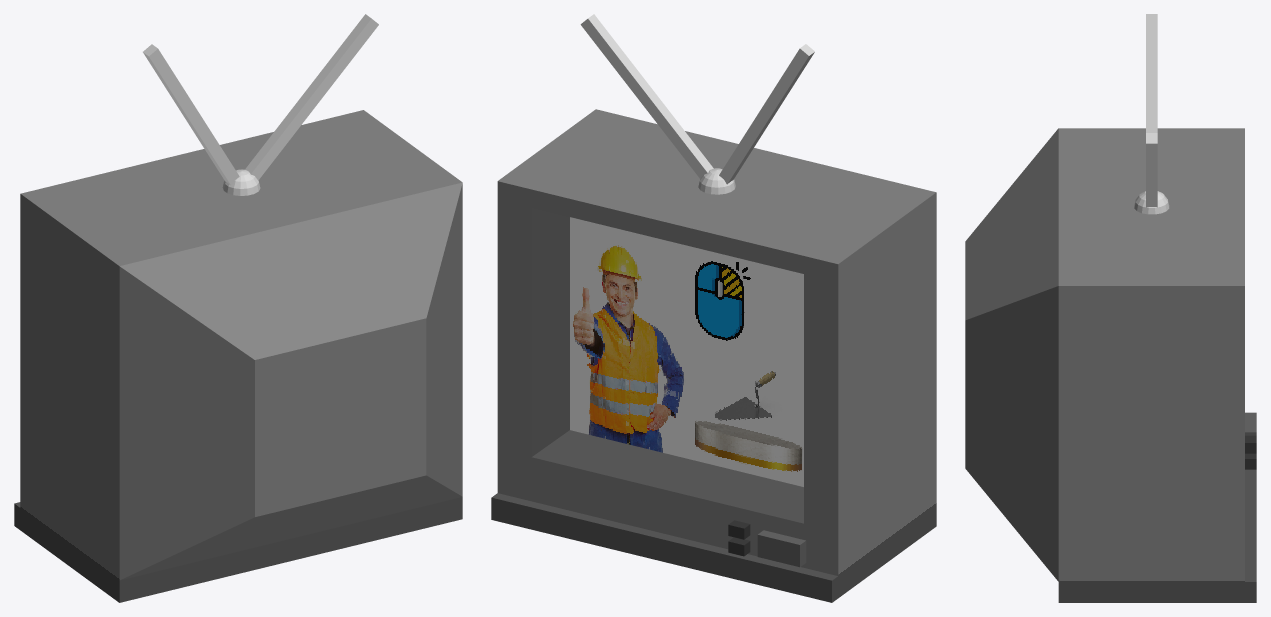
Rendered from BuildTV.gltf.
3 renders of one model, left to right at view 1: azimuth 30°, elevation 25°; view 2: azimuth 150°, elevation 25°; view 3: azimuth 270°, elevation 25°, orthographic. The views are drawn at different scales.
Parts seen in each view (by area): view 1: cuboid; view 2: cuboid; view 3: cuboid.
Boxes of the visible parts, x1,y1,x2,y2 form: cuboid: [14, 14, 462, 602]; cuboid: [491, 14, 936, 602]; cuboid: [965, 14, 1256, 602].
Size of the model in its own units: 2 by 2.78 by 1.56.
1 material, 1 textured.
